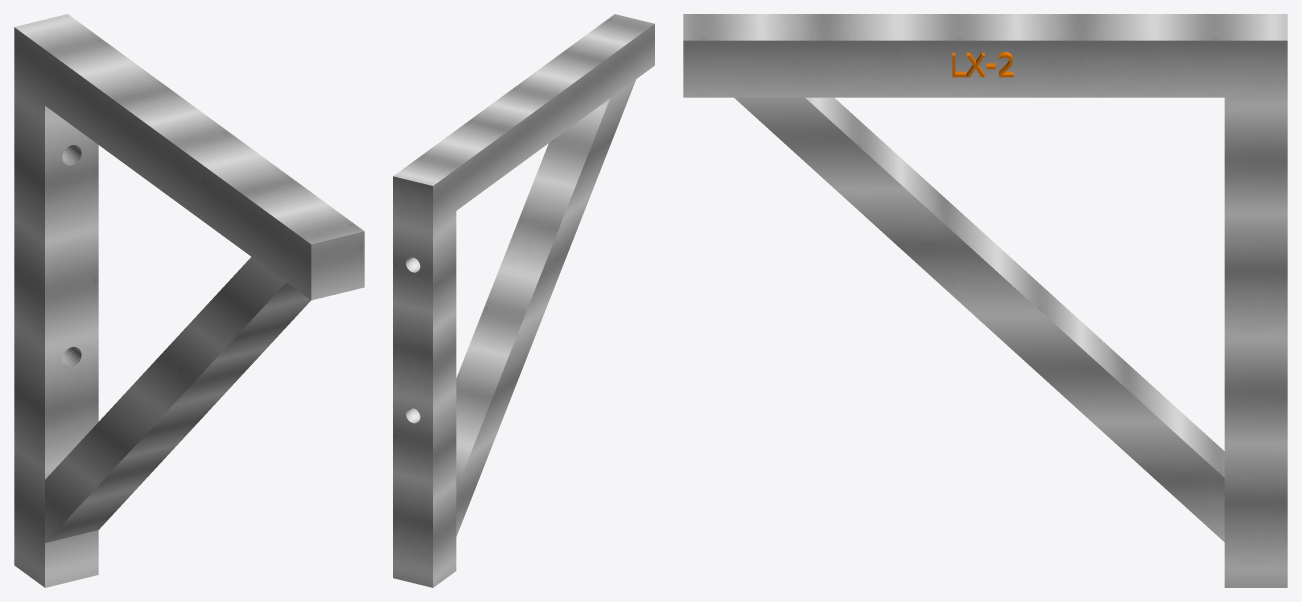
3 views of the same model, side by side, from view 1: azimuth 30°, elevation 25°; view 2: azimuth 150°, elevation 25°; view 3: azimuth 270°, elevation 25° (orthographic). The views are drawn at different scales.
Visible parts, largest first — view 1: G-Object, G-Object.001; view 2: G-Object, G-Object.001; view 3: G-Object, G-Object.001, C-LX-2.
Part boxes in pixels (x1,y1,x2,y2): G-Object: (14,14,364,587); G-Object.001: (45,257,310,542); G-Object: (393,14,654,587); G-Object.001: (456,79,635,536); G-Object: (683,14,1287,587); G-Object.001: (734,97,1224,541); C-LX-2: (952,52,1013,77).
Size of the model in its own units: 0.028 by 0.24 by 0.24.
Materials: 2 (2 with a texture image).
